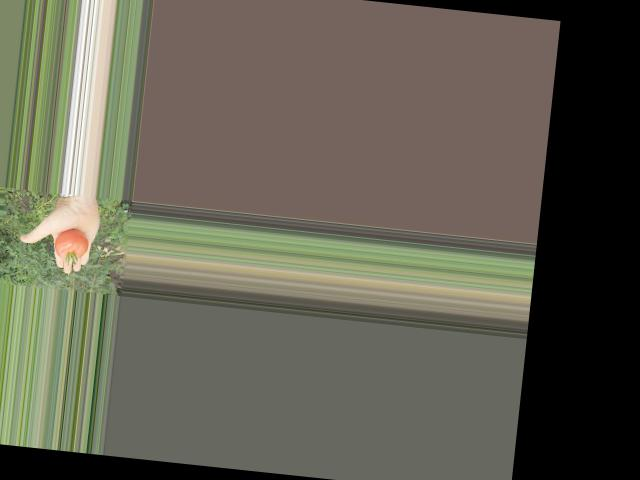tomato: (53, 227, 91, 260)
